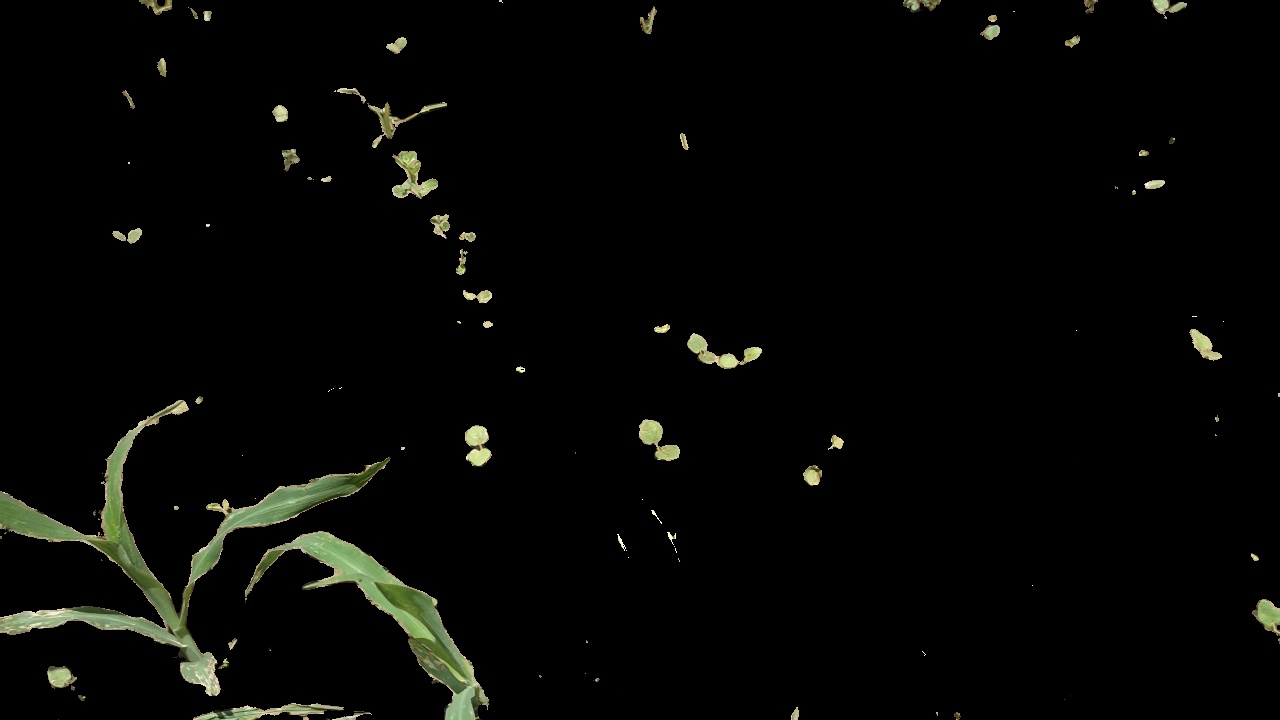crop: (1, 394, 289, 720), (246, 538, 539, 720)
weed: (683, 319, 761, 374), (389, 149, 446, 205), (639, 402, 678, 472), (456, 421, 496, 468), (1186, 319, 1223, 365), (105, 224, 153, 247), (458, 285, 492, 307), (1148, 1, 1185, 19)
